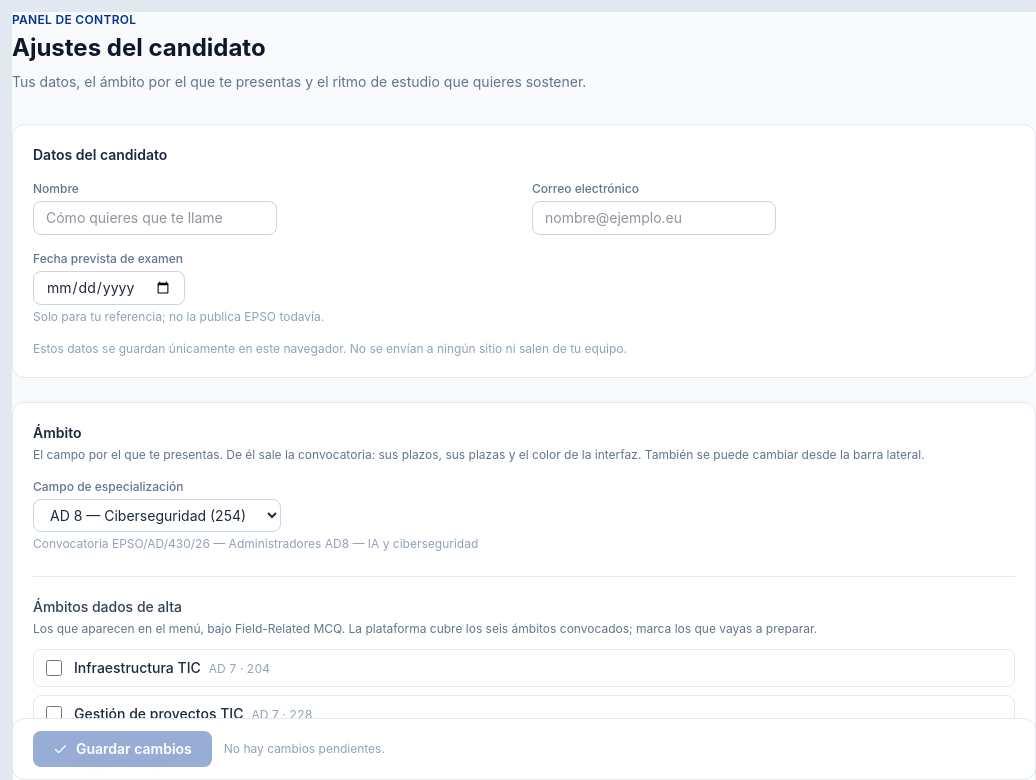
confirmación de cambios › confirmar guarda y lo dice
In the field labelled "Nombre": (155, 218) x1=33 y1=201 x2=277 y2=235, type "Miguel"
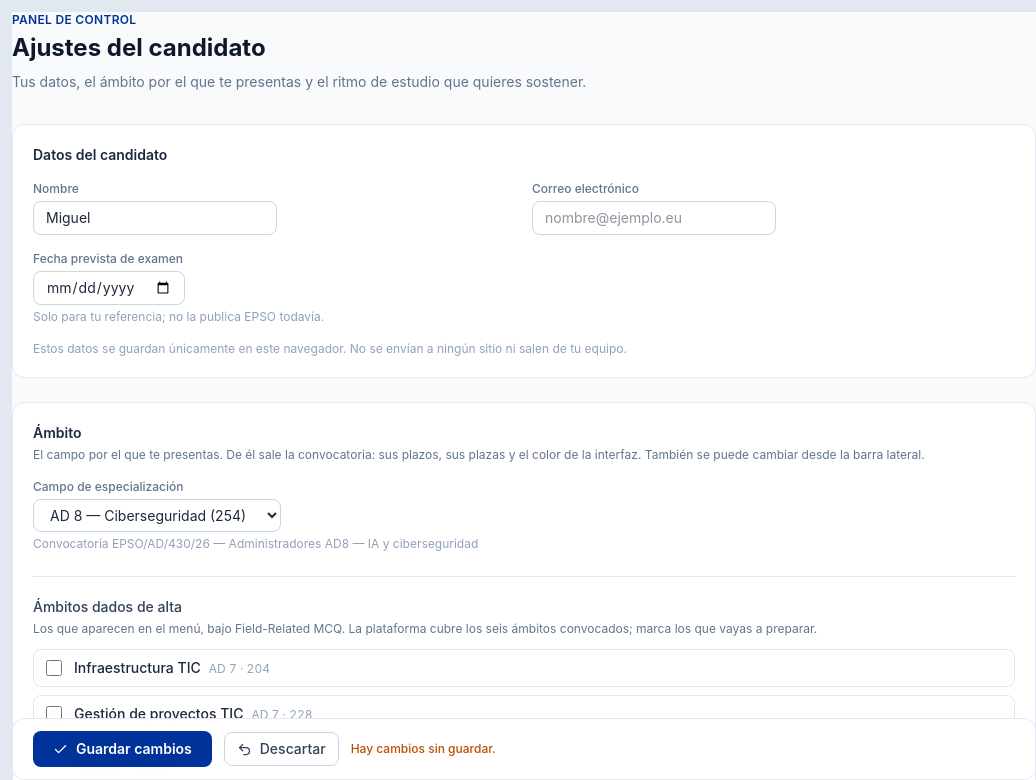
Click the button "Guardar cambios": (122, 749) x1=33 y1=731 x2=212 y2=767
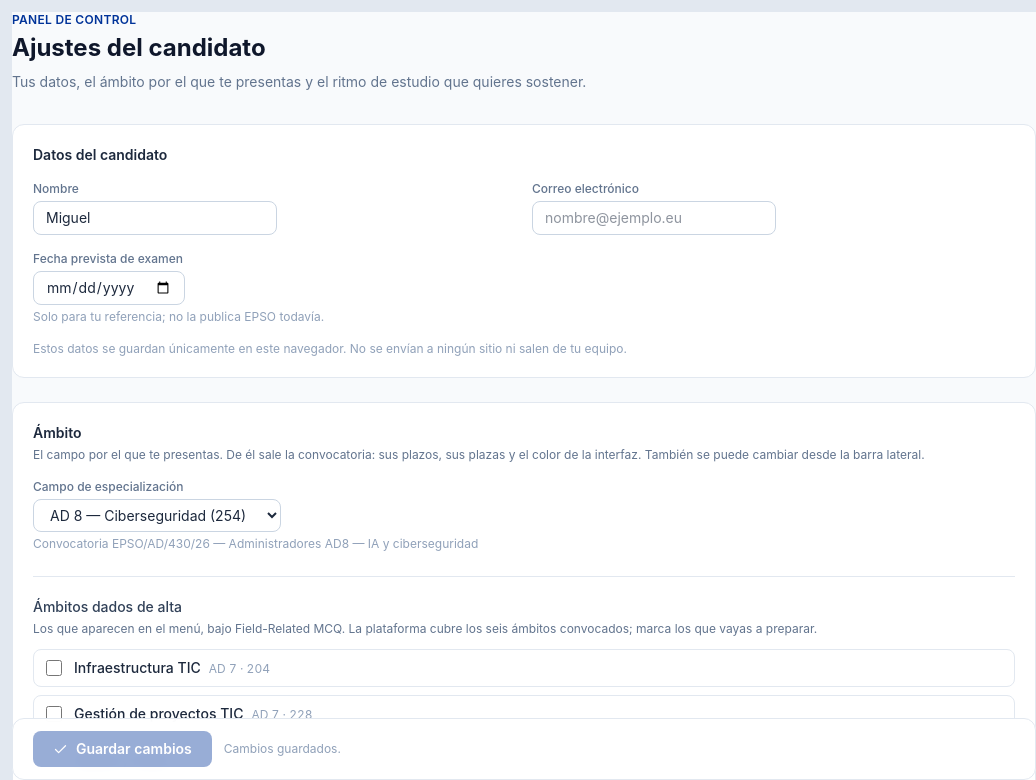
Check: the text "Cambios guardados." is shown, box x1=224 y1=741 x2=341 y2=757
